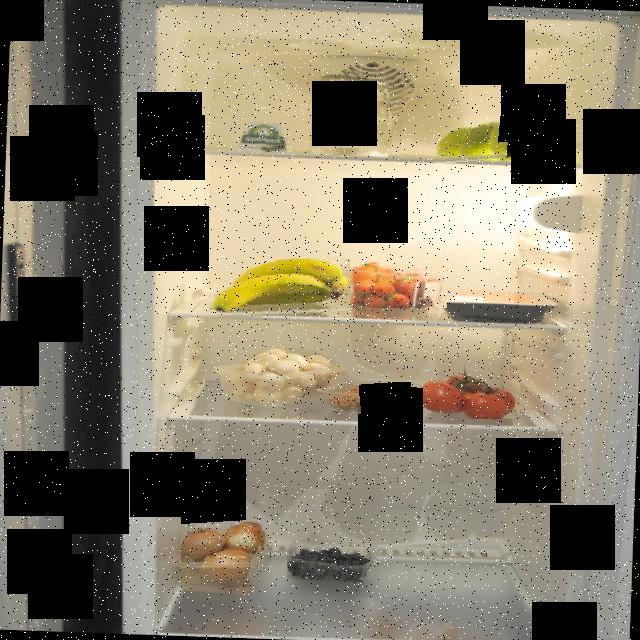apple: (434, 116, 553, 165)
banana: (208, 258, 350, 320)
blueberries: (288, 540, 378, 580)
flour: (306, 68, 404, 156)
goat_cheese: (233, 119, 302, 155)
mushrooms: (216, 343, 358, 408)
onion: (181, 520, 263, 588)
shrimp: (326, 382, 411, 416)
strawberries: (351, 262, 448, 308)
tomato: (410, 361, 520, 419)
